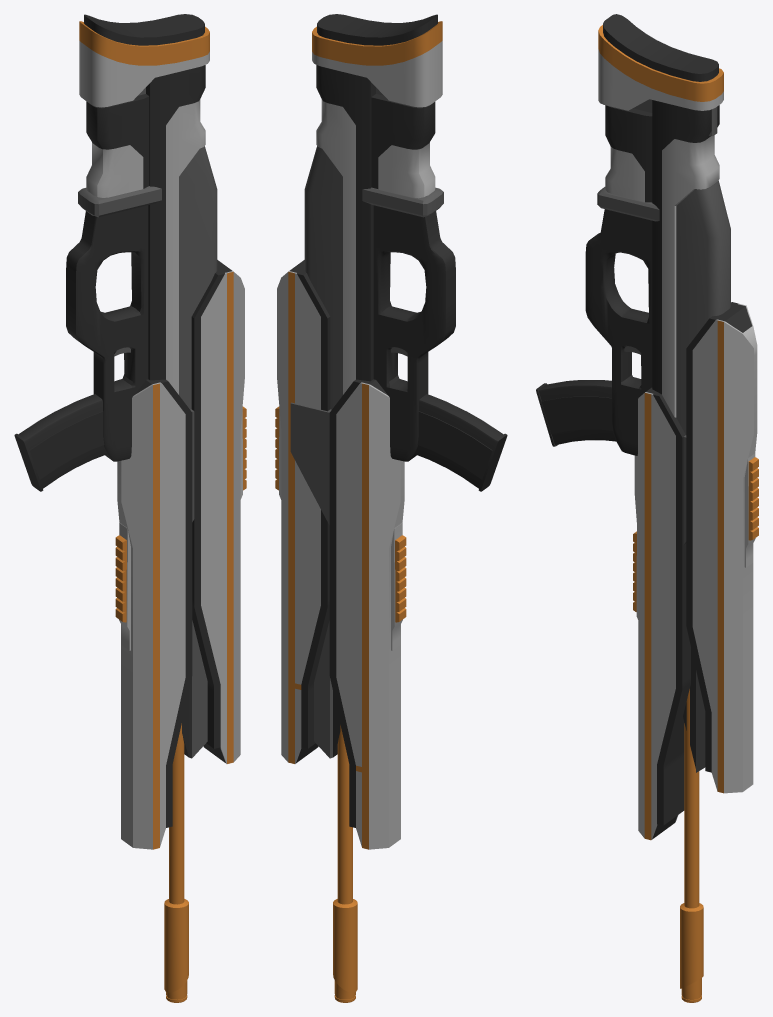
The model's file is qg-sniper-1-lod0.glb.
The picture shows the model from 3 angles, left to right: view 1: azimuth 30°, elevation 25°; view 2: azimuth 150°, elevation 25°; view 3: azimuth 330°, elevation 25°; orthographic projection. The views are drawn at different scales.
Visible parts, largest first — view 1: WeaponMesh_qg-sniper-1_Sniper_1, WeaponMesh_qg-sniper-1_Magazine_Sniper; view 2: WeaponMesh_qg-sniper-1_Sniper_1, WeaponMesh_qg-sniper-1_Magazine_Sniper; view 3: WeaponMesh_qg-sniper-1_Sniper_1, WeaponMesh_qg-sniper-1_Magazine_Sniper.
Part boxes in pixels (x1,y1,x2,y2): WeaponMesh_qg-sniper-1_Sniper_1: (66,14,246,1002); WeaponMesh_qg-sniper-1_Magazine_Sniper: (14,394,107,491); WeaponMesh_qg-sniper-1_Sniper_1: (275,14,455,1002); WeaponMesh_qg-sniper-1_Magazine_Sniper: (414,394,507,491); WeaponMesh_qg-sniper-1_Sniper_1: (585,14,758,1002); WeaponMesh_qg-sniper-1_Magazine_Sniper: (536,380,616,446).
Bounding box in the file's own units: 0.3334 × 1.42 × 0.0657.
